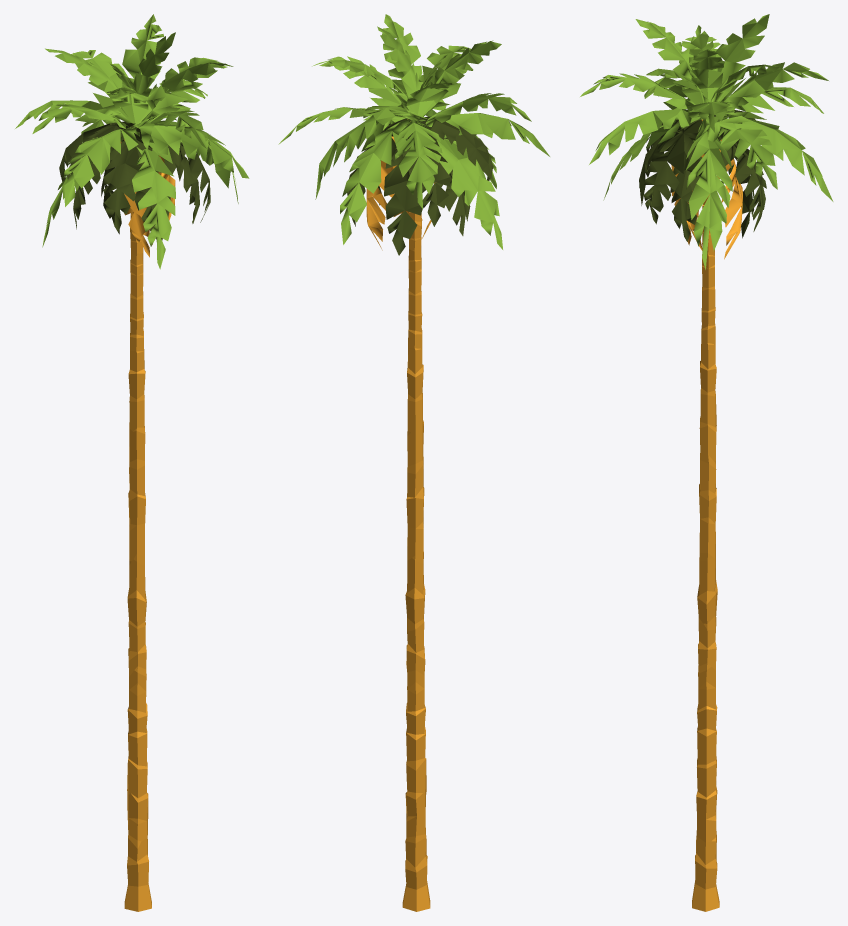
File: SM_Tree_Palm_Maxican_Fan_A.fbx
3 views of the same model, side by side, from view 1: azimuth 30°, elevation 25°; view 2: azimuth 150°, elevation 25°; view 3: azimuth 270°, elevation 25° (orthographic).
Visible parts, largest first — view 1: SM_Tree_Palm_Maxican_Fan_A; view 2: SM_Tree_Palm_Maxican_Fan_A; view 3: SM_Tree_Palm_Maxican_Fan_A.
Boxes of the visible parts, x1,y1,x2,y2 form: SM_Tree_Palm_Maxican_Fan_A: (15, 14, 249, 911); SM_Tree_Palm_Maxican_Fan_A: (278, 14, 549, 911); SM_Tree_Palm_Maxican_Fan_A: (580, 14, 833, 911).
Bounding box in the file's own units: 5.66 × 22 × 5.79.
